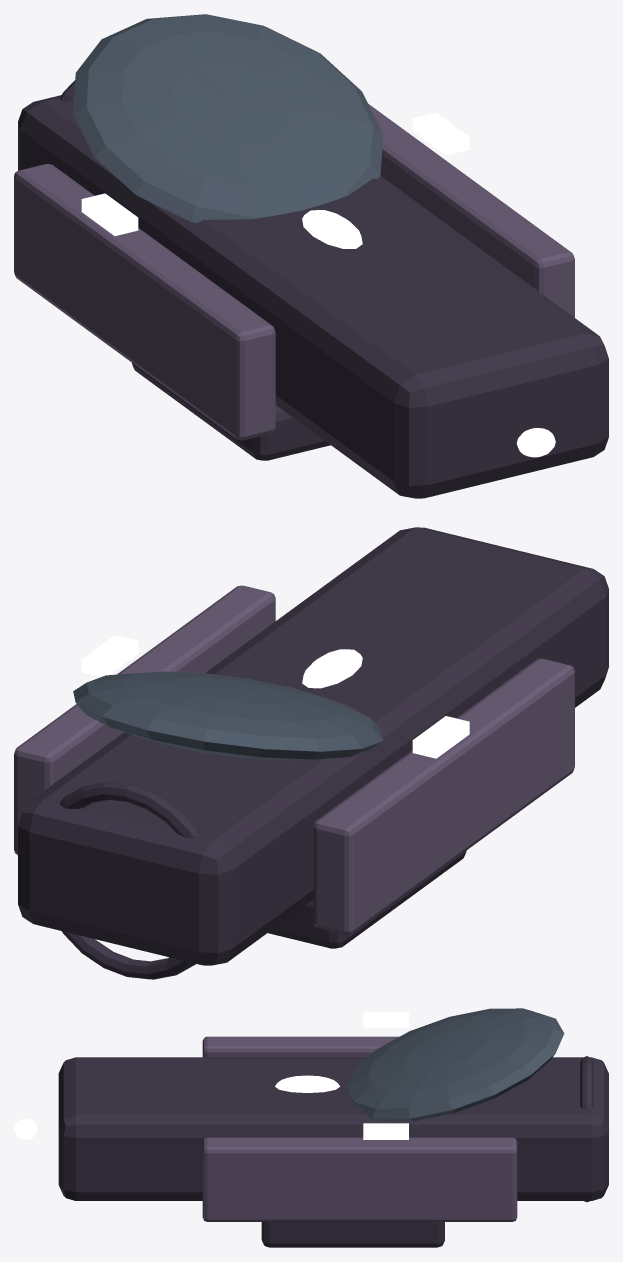
3 renders of one model, top to bottom at view 1: azimuth 30°, elevation 25°; view 2: azimuth 150°, elevation 25°; view 3: azimuth 270°, elevation 25°, orthographic. The views are drawn at different scales.
Parts seen in each view (by area): view 1: RIMWARD_HULL, RIMWARD_EMISSIVE, RIMWARD_ENGINE_GLOW; view 2: RIMWARD_HULL, RIMWARD_EMISSIVE; view 3: RIMWARD_HULL, RIMWARD_EMISSIVE, RIMWARD_ENGINE_GLOW.
Part boxes in pixels (bbox=[...]): RIMWARD_HULL: bbox=[14, 14, 608, 498]; RIMWARD_EMISSIVE: bbox=[81, 112, 469, 248]; RIMWARD_ENGINE_GLOW: bbox=[516, 428, 555, 457]; RIMWARD_HULL: bbox=[14, 527, 608, 979]; RIMWARD_EMISSIVE: bbox=[81, 635, 469, 758]; RIMWARD_HULL: bbox=[58, 1008, 608, 1247]; RIMWARD_EMISSIVE: bbox=[275, 1011, 408, 1139]; RIMWARD_ENGINE_GLOW: bbox=[14, 1118, 37, 1139].
Bounding box in the file's own units: 4.75 × 3.43 × 9.99.
